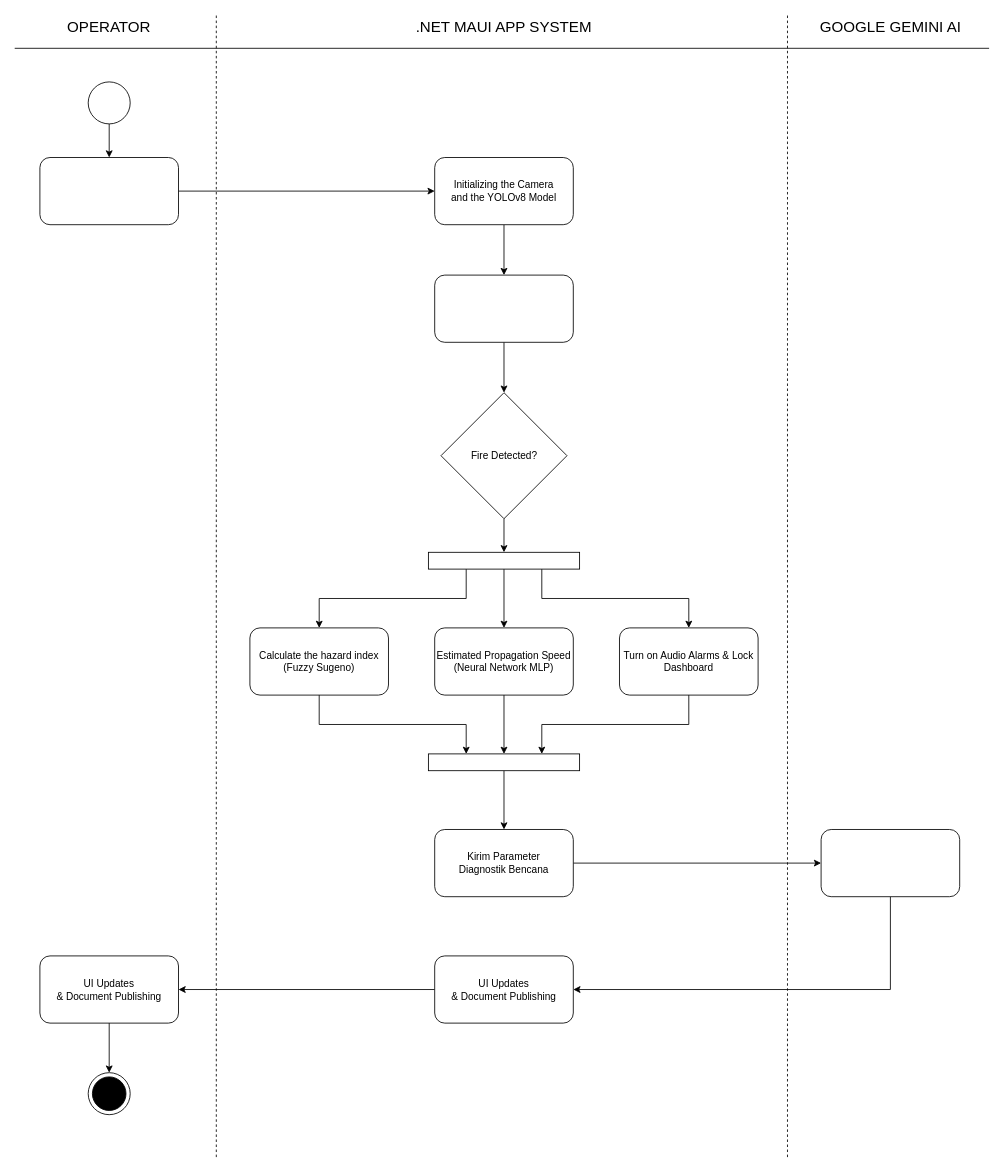
Some shapes in this 1005 by 1173 pixel diagram are drawn without their labels. The centre of each missing label's shape, as x and y in pixels:
"Bounding Box Detection of Flames Using YOLOv8" belongs at pixel 503 308.
"Data Processing & Formulation JSON (Press Releases & SITREP)" belongs at pixel 890 863.
"Open the Dashboard Monitoring" belongs at pixel 108 191.
